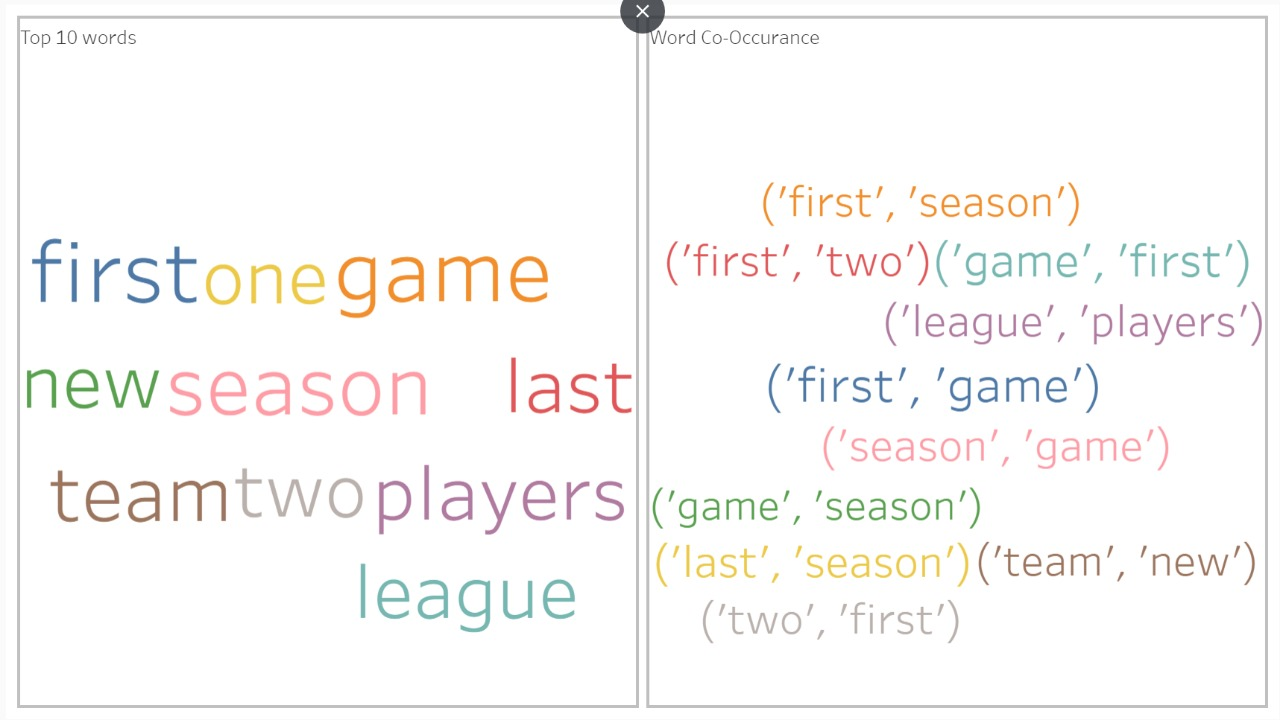

This screenshot's page, from the dashboard's own definition file:
{"tool":"tableau","page":{"name":"Twitter Dashboard","canvas":[1366,768],"ordinal":3},"visuals":[{"type":"worksheet","title":"TopN Words Twitter","mark":"Text","box":[8,8,675,752]},{"type":"worksheet","title":"Word Co-Occurance Twitter","mark":"Text","box":[683,8,675,752]}]}

Visuals, with their boxes in screenshot pixels (x1, y1, x2, y2), scaled from the page's 1366x768 canvas onto the 1280x720 screenshot:
"TopN Words Twitter" worksheet (Text marks): rect(7, 8, 640, 712)
"Word Co-Occurance Twitter" worksheet (Text marks): rect(640, 8, 1273, 712)
